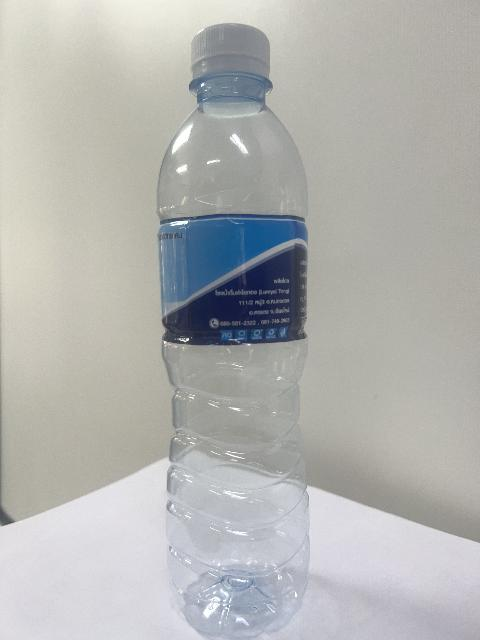bottle: (158, 24, 309, 638)
